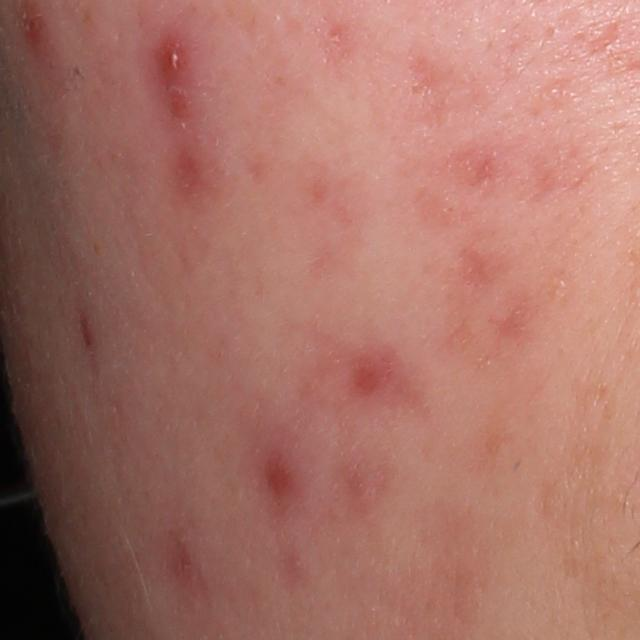papule: (155, 34, 190, 87), (23, 4, 51, 50)
